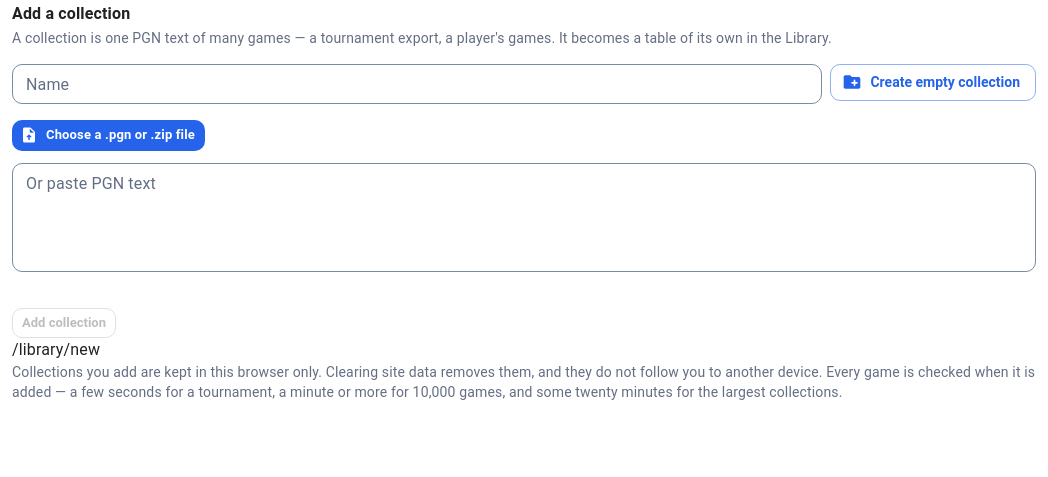
adding a collection › says why a text was not taken
Type "hello" into the text box with test id "library-upload-paste" at (524, 217), box [26,171,1022,263]
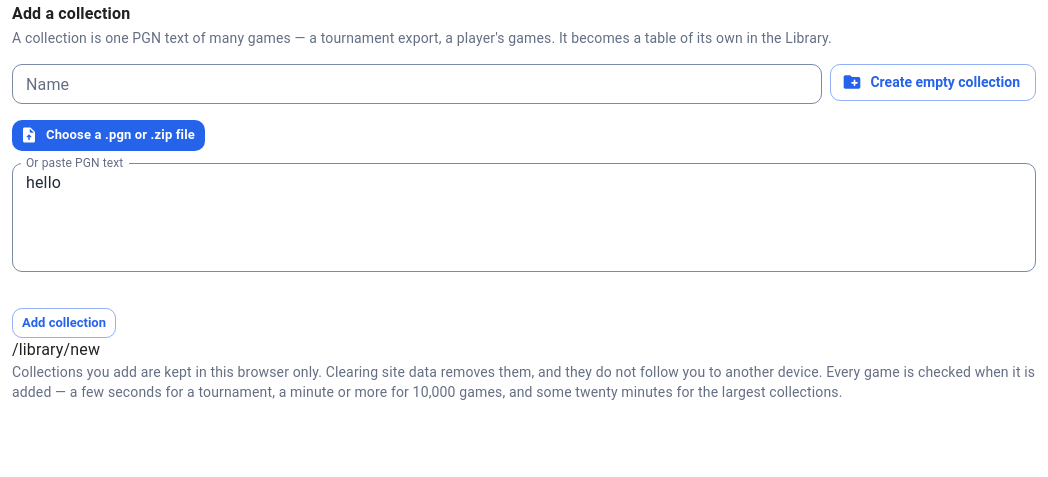
Click the button with test id "library-upload-save" at (64, 323), box [12,308,116,338]
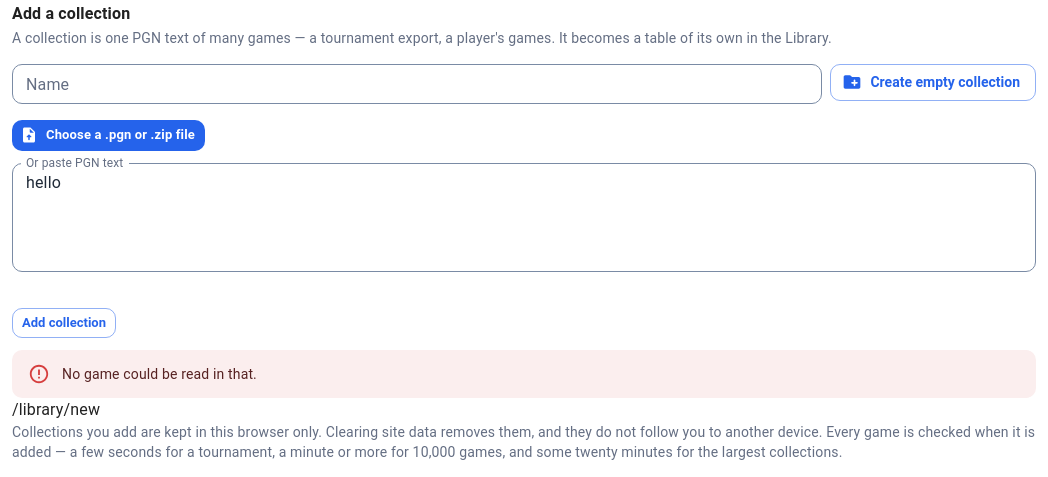
Expected: the message with test id "library-upload-problem" reads "No game could be read in that.", [62,366,257,382]
